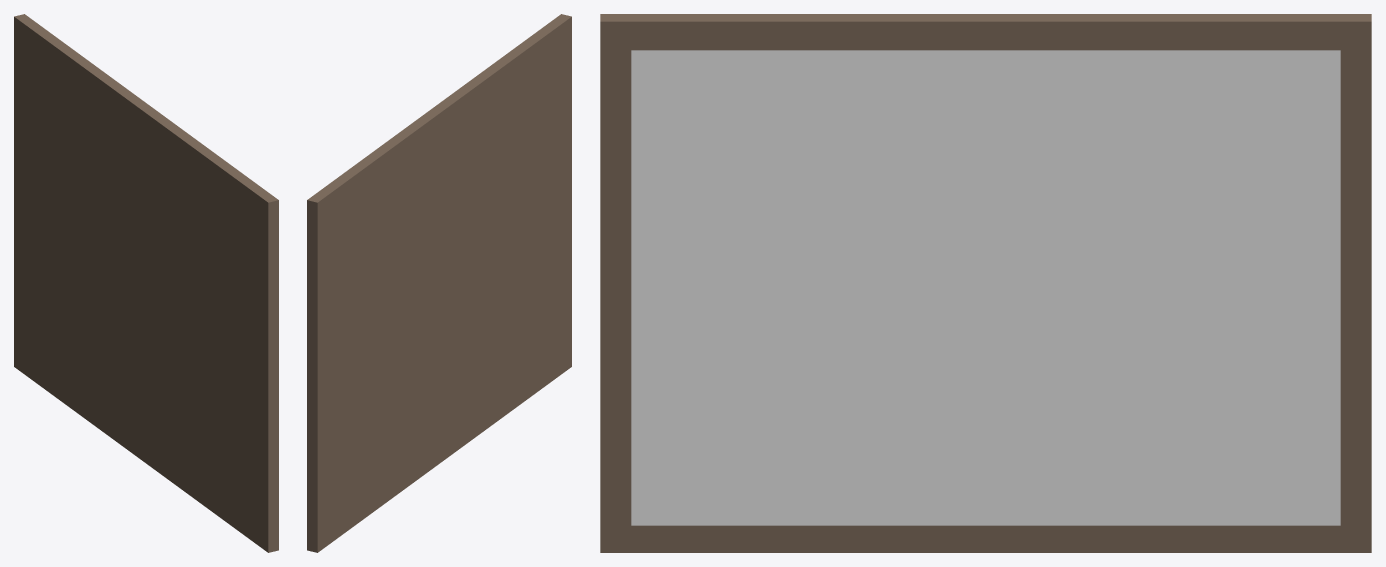
Rendered from paint_frame.glb.
The picture shows the model from 3 angles, left to right: view 1: azimuth 30°, elevation 25°; view 2: azimuth 150°, elevation 25°; view 3: azimuth 270°, elevation 25°; orthographic projection. The views are drawn at different scales.
Parts seen in each view (by area): view 1: paint_01; view 2: paint_01; view 3: paint_face, paint_01.
Part boxes in pixels (bbox=[...]): paint_01: bbox=[14, 14, 278, 552]; paint_01: bbox=[307, 14, 571, 552]; paint_face: bbox=[631, 50, 1340, 525]; paint_01: bbox=[600, 14, 1371, 552].
Size of the model in its own units: 0.065 by 1.9 by 2.5.
